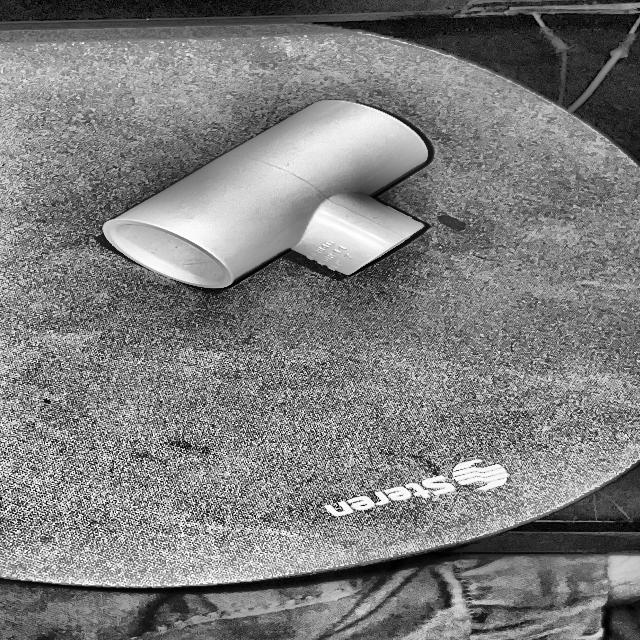EQUALTEE: (101, 100, 435, 291)
